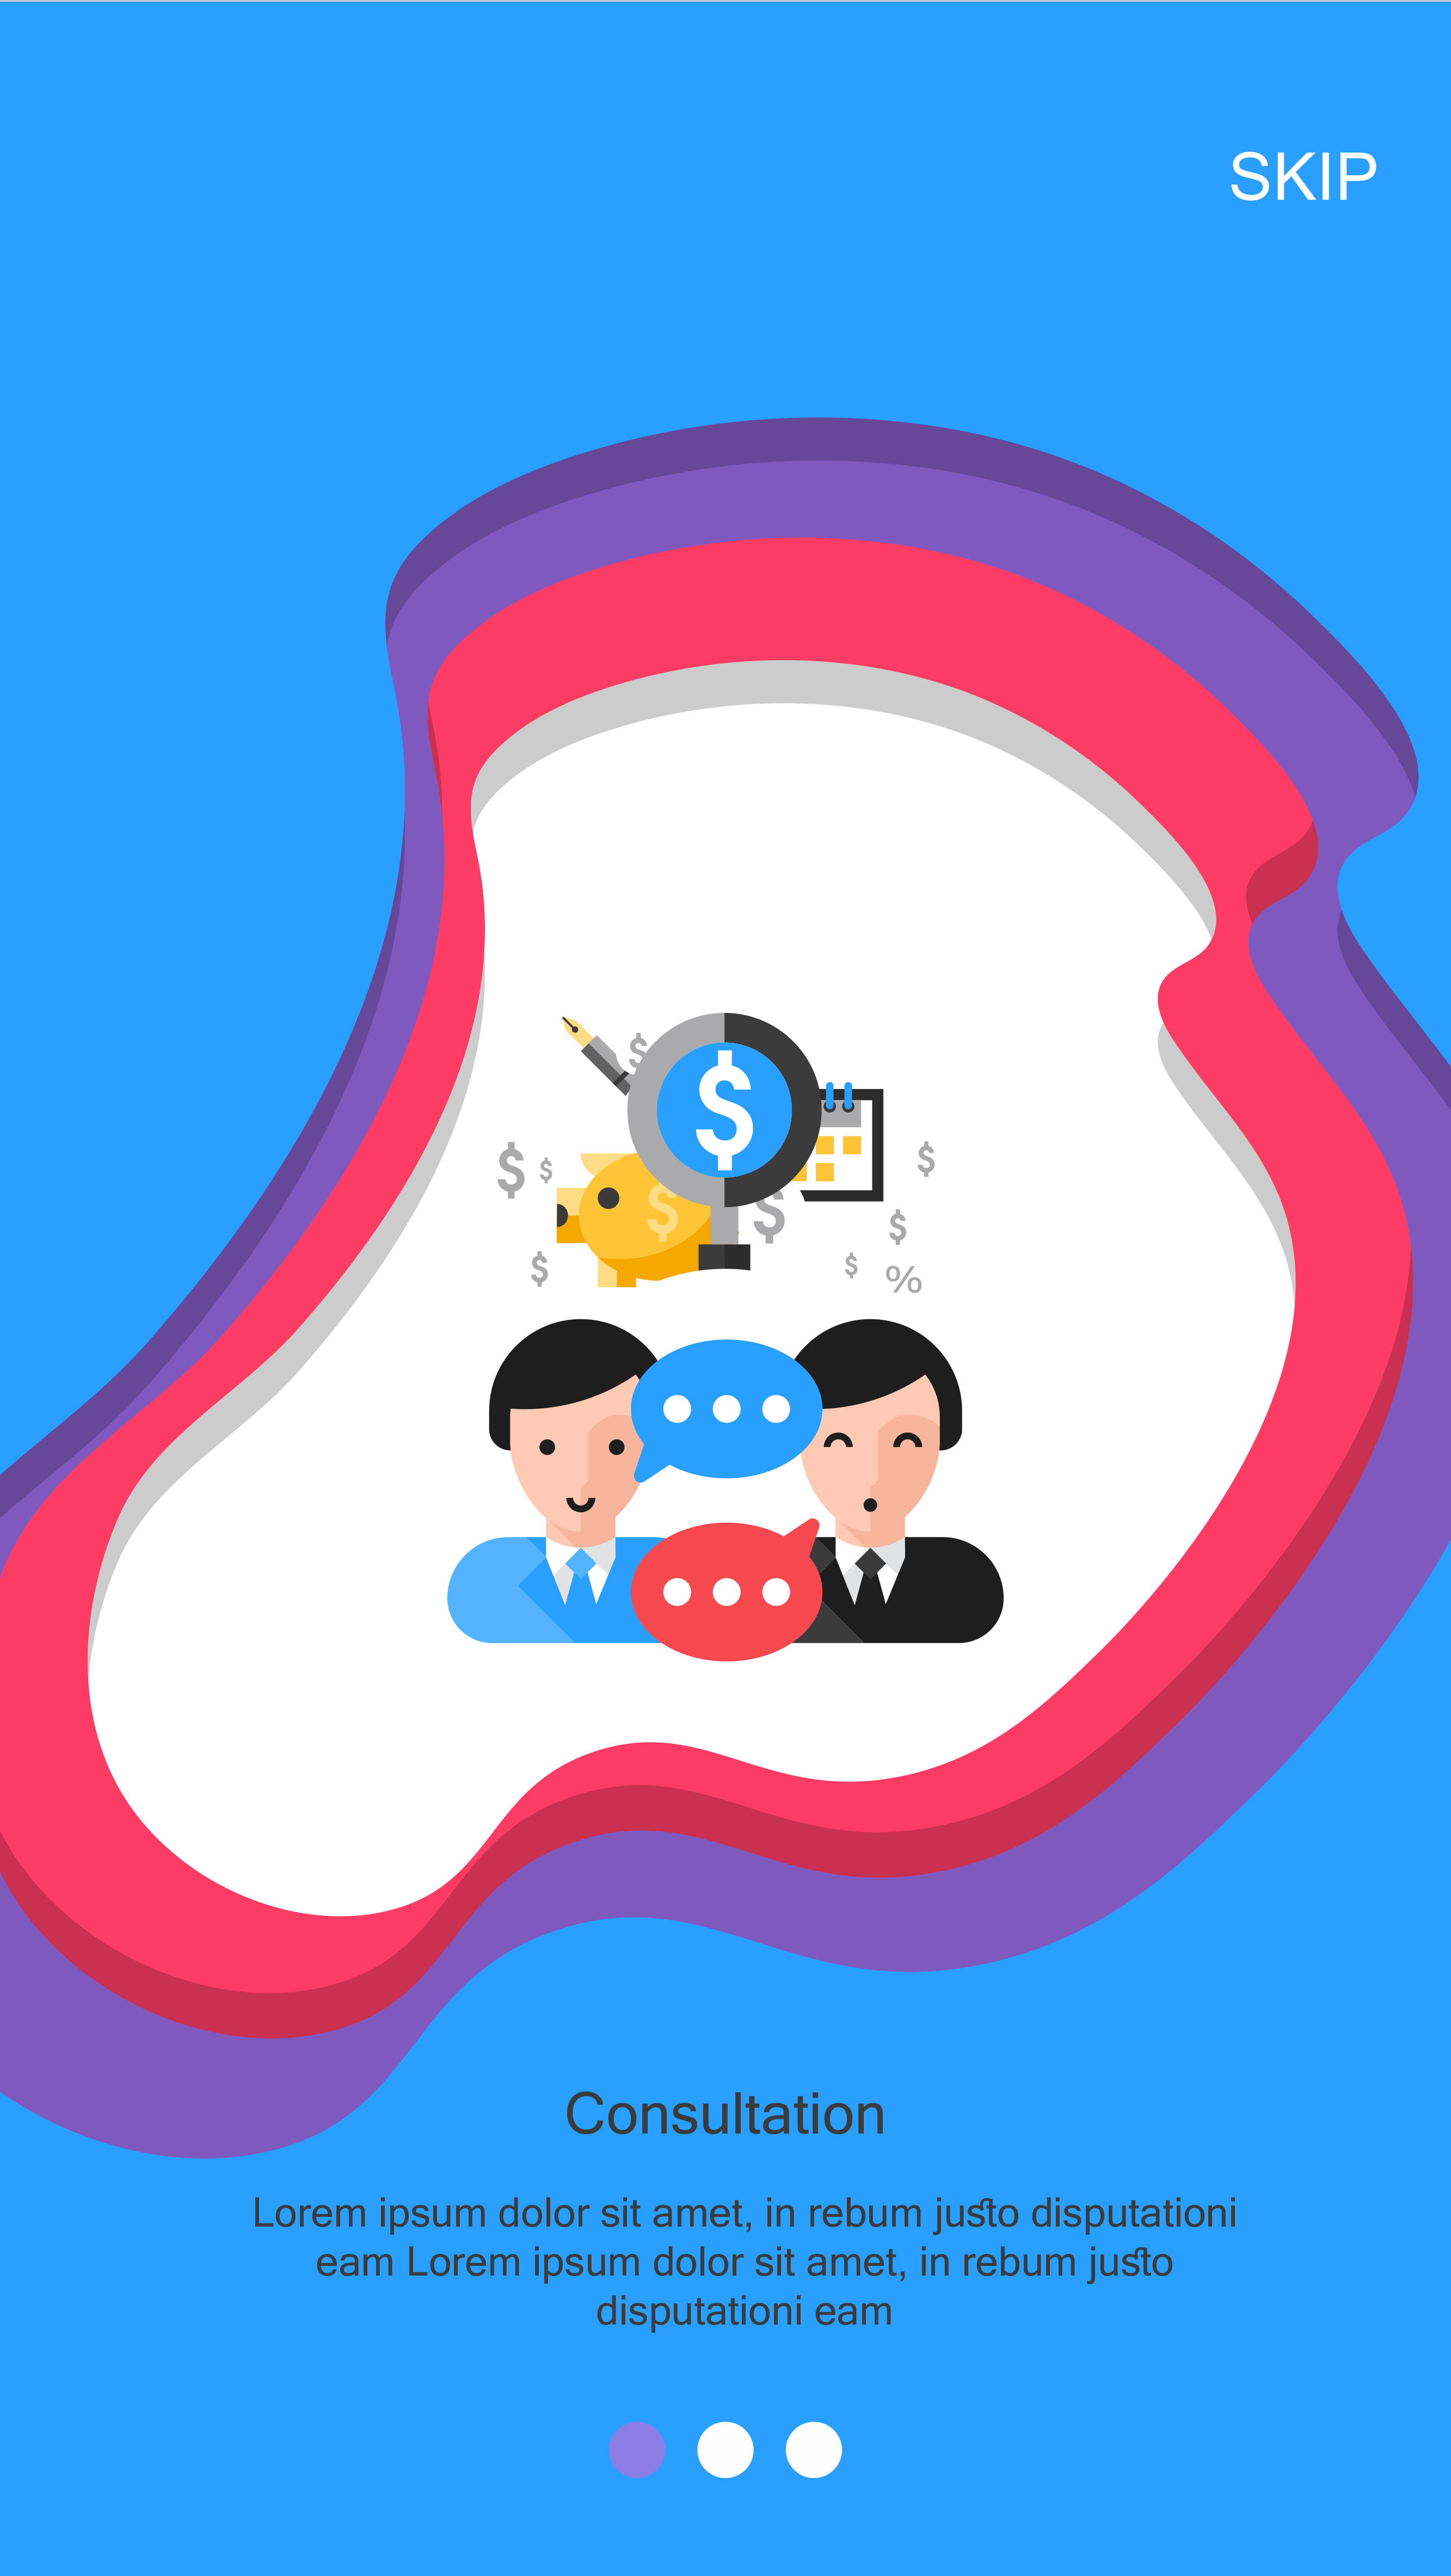BackgroundImage: (7, 4, 1451, 2576)
Image: (446, 1012, 1007, 1661)
PageIndicator: (607, 2420, 844, 2480)
Text: (253, 2194, 1237, 2335), (566, 2089, 885, 2137), (1230, 150, 1378, 203)
